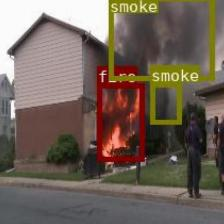fire: (97, 83, 143, 160)
smoke: (108, 0, 214, 80), (149, 81, 181, 123)
